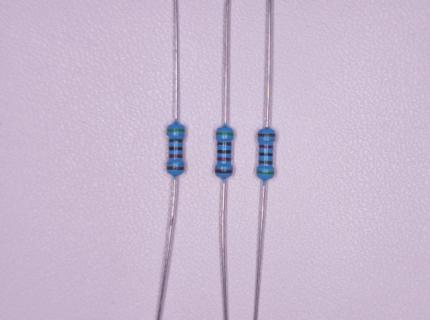Black band: (217, 150, 231, 154), (259, 153, 273, 156), (169, 147, 182, 150)
Brown band: (167, 166, 184, 170), (215, 169, 232, 173), (169, 139, 183, 143), (218, 142, 231, 146), (258, 134, 275, 137), (259, 161, 273, 164)
Green band: (167, 129, 185, 132), (216, 132, 233, 135), (257, 171, 274, 174)
Red band: (217, 157, 231, 161), (259, 145, 273, 149), (169, 154, 182, 158)
